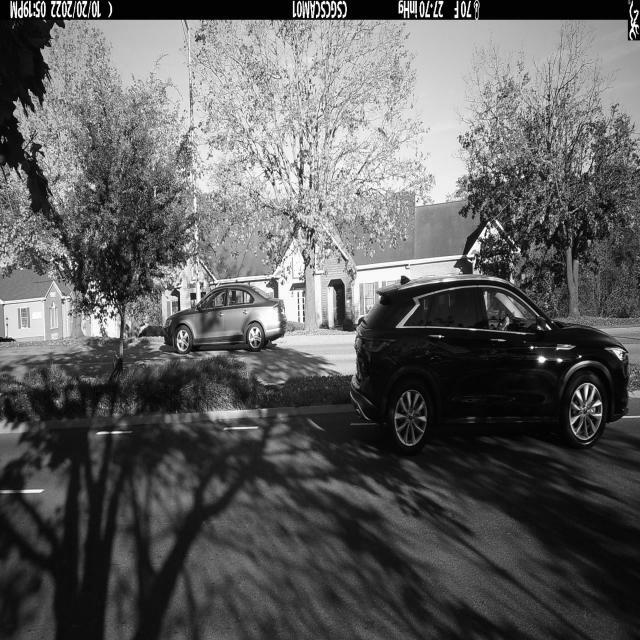SUV: (347, 275, 629, 455)
